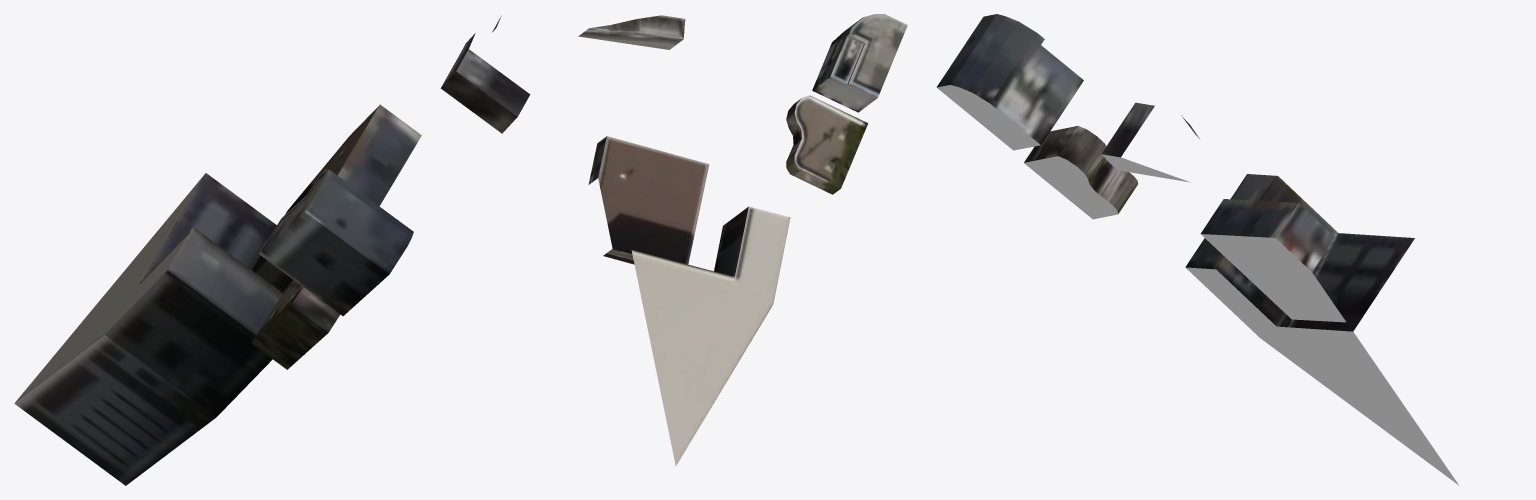
File: 39516_bldg_Building.glb
3 renders of one model, left to right at view 1: azimuth 30°, elevation 25°; view 2: azimuth 150°, elevation 25°; view 3: azimuth 270°, elevation 25°, orthographic. The views are drawn at different scales.
Size of the model in its own units: 29.35 by 40.24 by 47.68.
2 materials, 1 textured.
